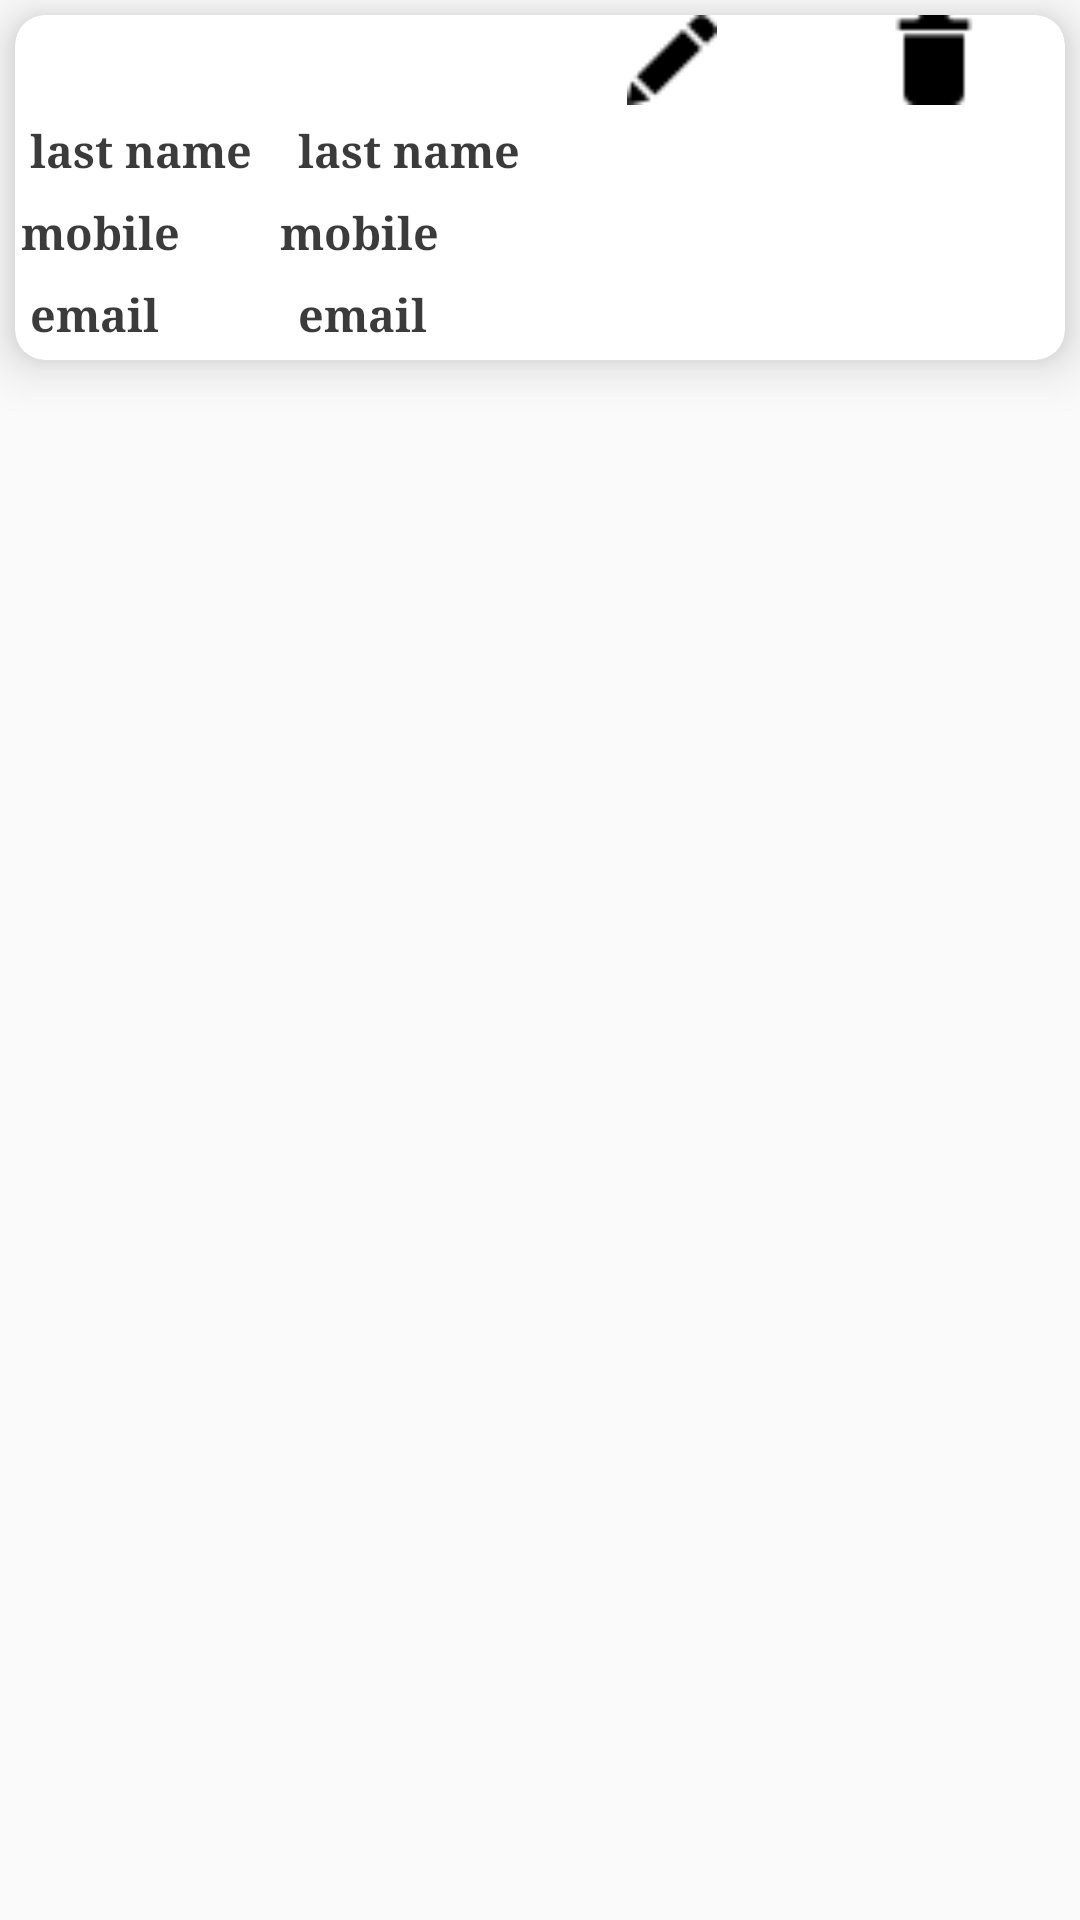

Icon click points for this 1080w x 1920h phone screenshot, format (x,y):
edit: (672,60)
